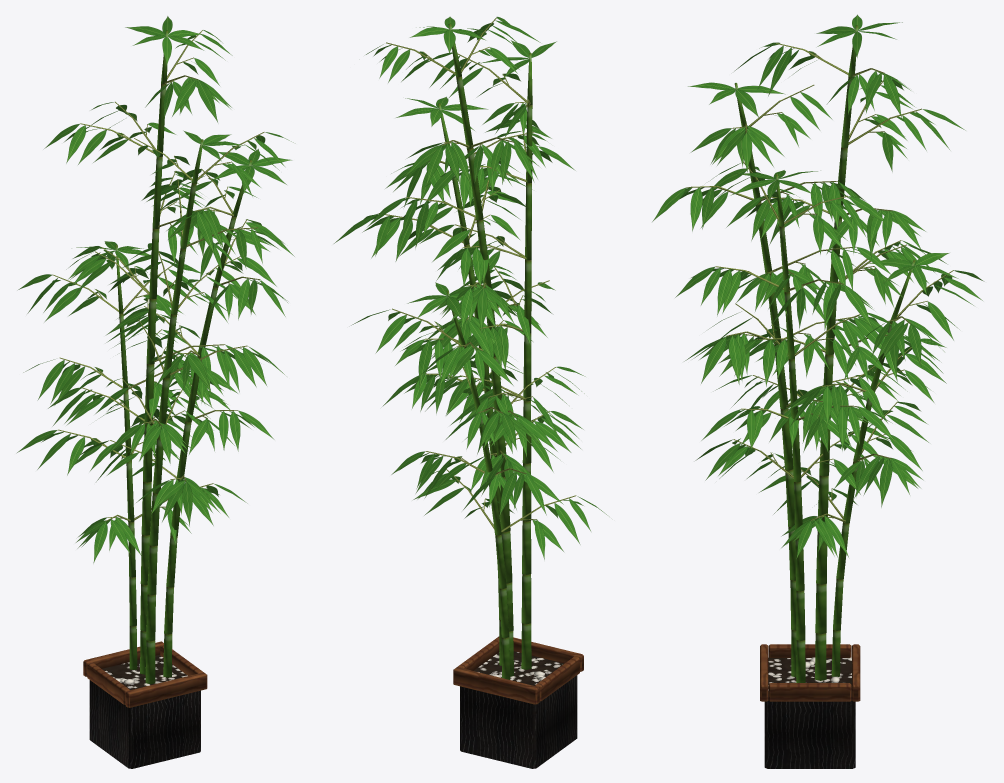
The model's file is bamboo.glb.
The picture shows the model from 3 angles, left to right: view 1: azimuth 30°, elevation 25°; view 2: azimuth 150°, elevation 25°; view 3: azimuth 270°, elevation 25°; orthographic projection. The views are drawn at different scales.
Visible parts, largest first — view 1: BambooLeaves, PlanterBox, PlanterRim0, PlanterRim2, PlanterRim1, BambooCulm0_7, BambooCulm0_6, BambooCulm0_8, BambooCulm0_3; view 2: BambooLeaves, PlanterBox, PlanterRim1, PlanterRim2, PlanterRim0, PlanterRim3, BambooCulm1_5, BambooCulm1_2, BambooCulm1_7, BambooCulm1_1, BambooCulm0_9, BambooCulm1_0; view 3: BambooLeaves, PlanterBox, PlanterRim3, PlanterRim2.
Boxes of the visible parts, bbox=[...] form: BambooLeaves: bbox=[17, 16, 294, 563]; PlanterBox: bbox=[89, 655, 200, 768]; PlanterRim0: bbox=[125, 672, 207, 707]; PlanterRim2: bbox=[87, 662, 129, 704]; PlanterRim1: bbox=[83, 641, 163, 676]; BambooCulm0_7: bbox=[149, 228, 159, 299]; BambooCulm0_6: bbox=[146, 298, 156, 364]; BambooCulm0_8: bbox=[152, 156, 162, 228]; BambooCulm0_3: bbox=[141, 481, 151, 535]; BambooLeaves: bbox=[334, 16, 607, 559]; PlanterBox: bbox=[460, 651, 577, 768]; PlanterRim1: bbox=[453, 667, 539, 704]; PlanterRim2: bbox=[535, 656, 579, 701]; PlanterRim0: bbox=[498, 636, 583, 671]; PlanterRim3: bbox=[457, 637, 499, 670]; BambooCulm1_5: bbox=[523, 333, 531, 401]; BambooCulm1_2: bbox=[522, 521, 531, 574]; BambooCulm1_7: bbox=[525, 183, 531, 260]; BambooCulm1_1: bbox=[521, 574, 531, 624]; BambooCulm0_9: bbox=[456, 76, 473, 148]; BambooCulm1_0: bbox=[521, 623, 531, 669]; BambooLeaves: bbox=[652, 14, 984, 559]; PlanterBox: bbox=[764, 657, 855, 768]; PlanterRim3: bbox=[768, 683, 851, 701]; PlanterRim2: bbox=[768, 644, 851, 657].
Size of the model in its own units: 0.9619 by 2.72 by 1.13.
Materials: 8 (6 with a texture image).
